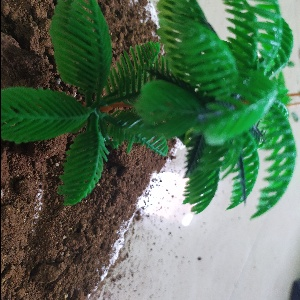plant: (1, 1, 300, 218)
